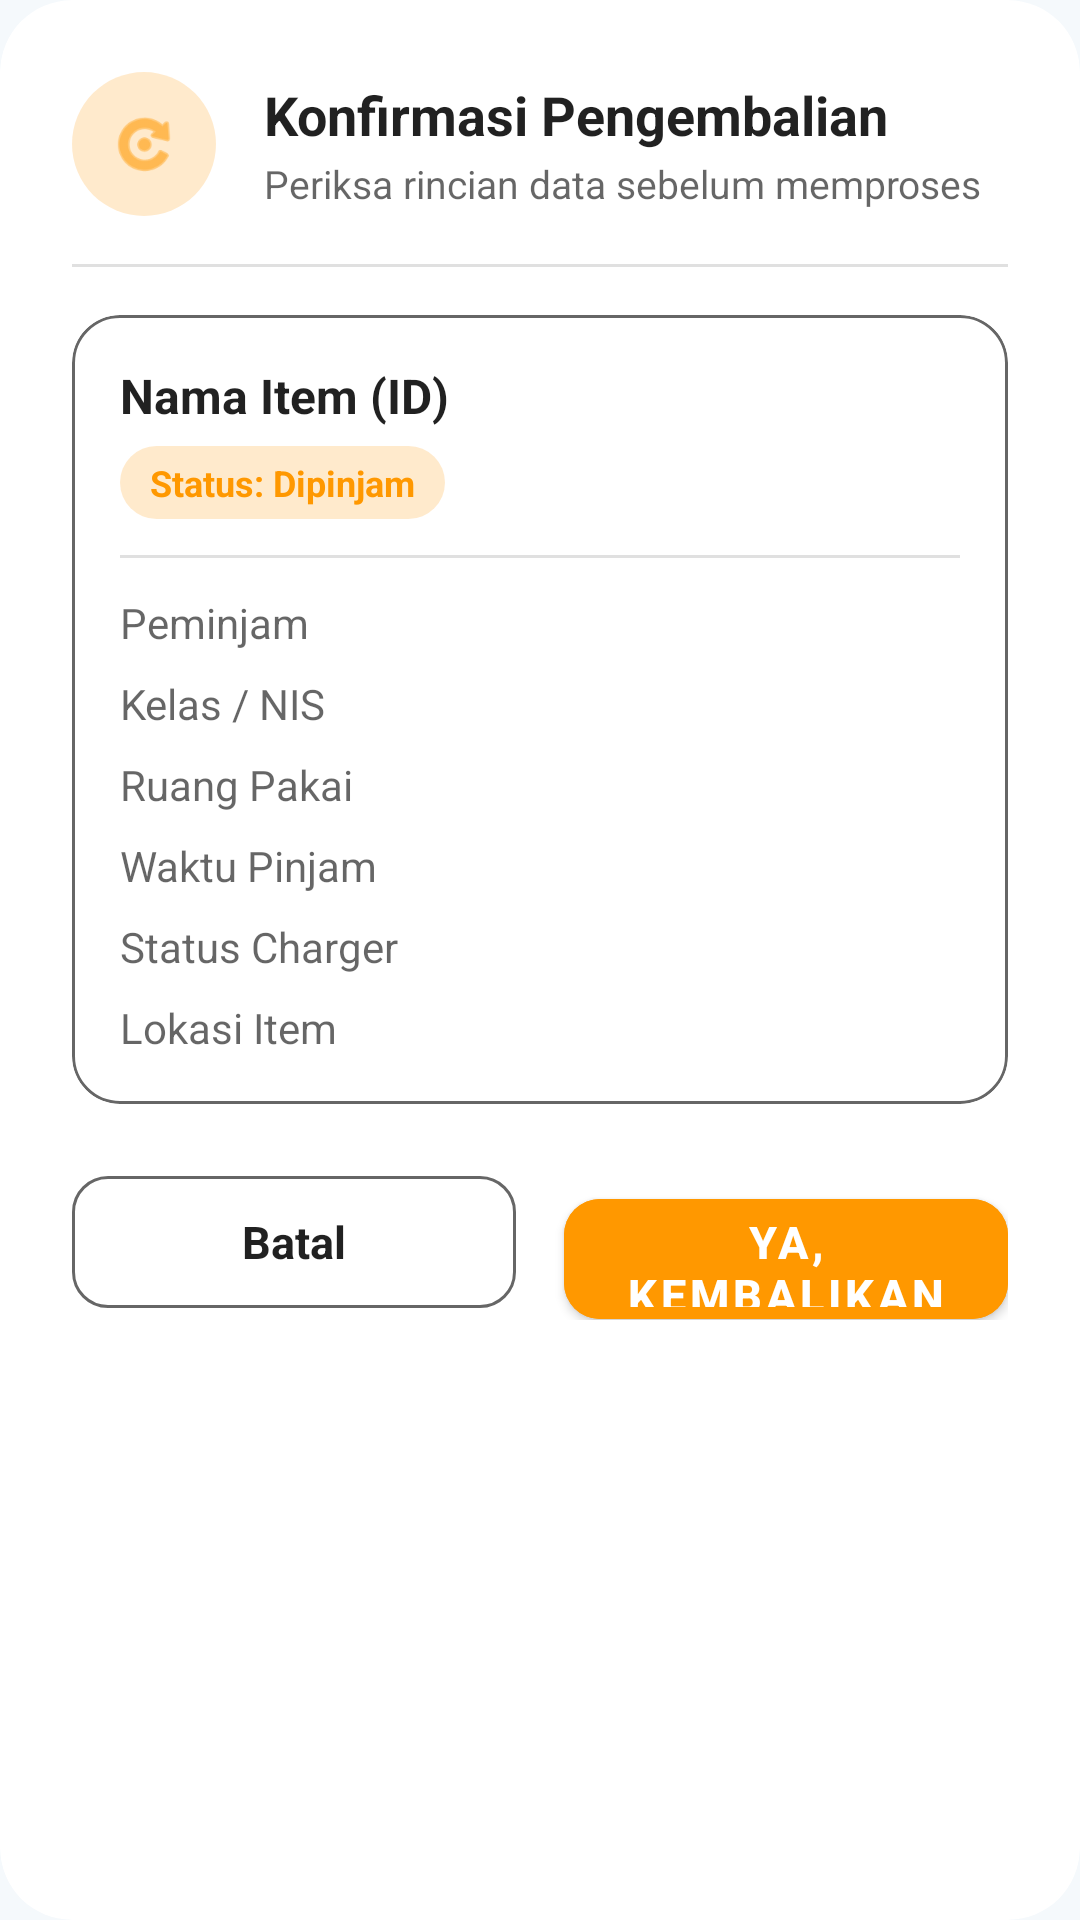

Where icons sit on this 1080x1920 app screen, as [x1, y1, x2, y2]:
rotate: [72, 72, 216, 216]
